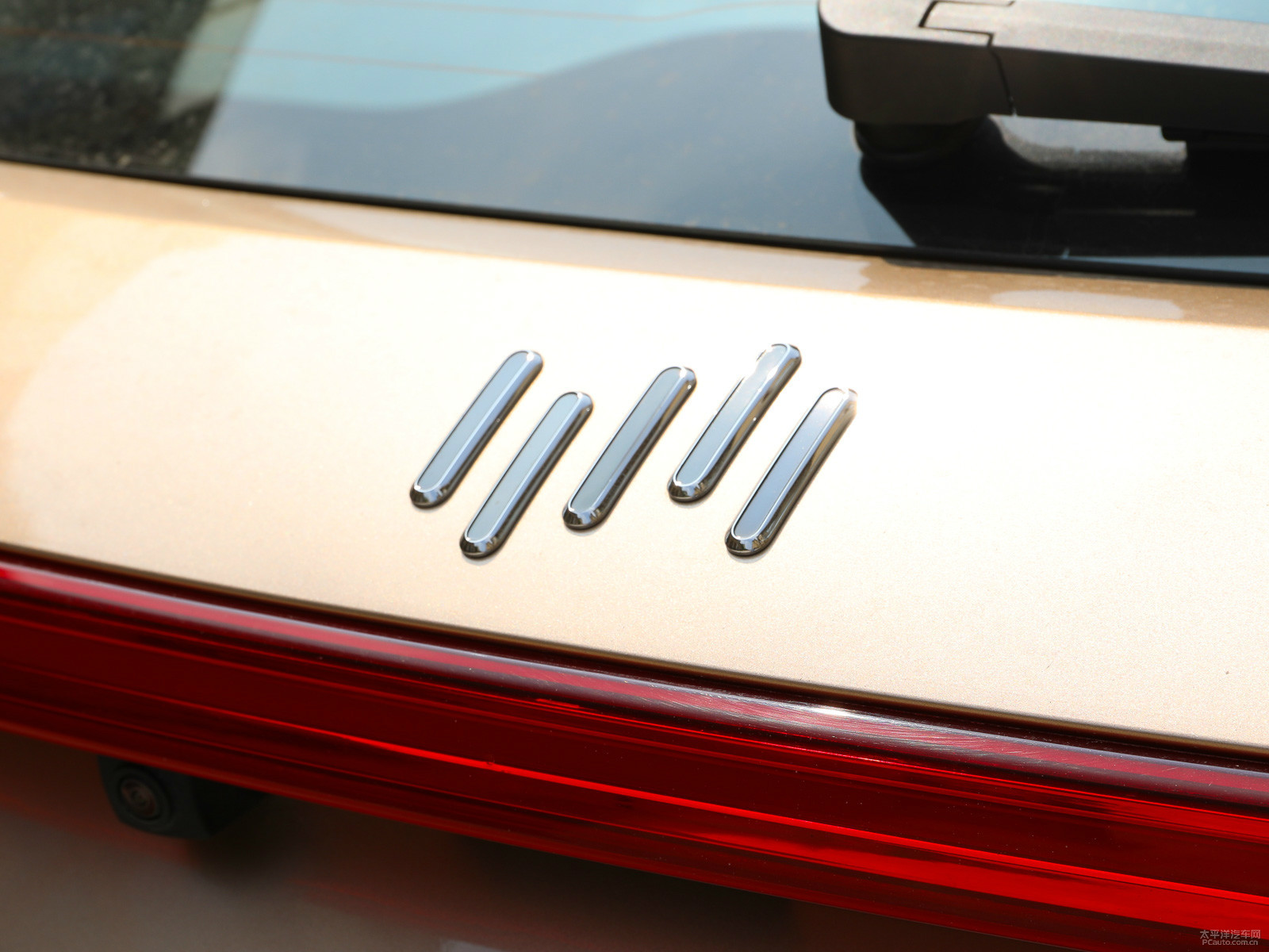WELTMEISTER: (412, 344, 856, 555)
